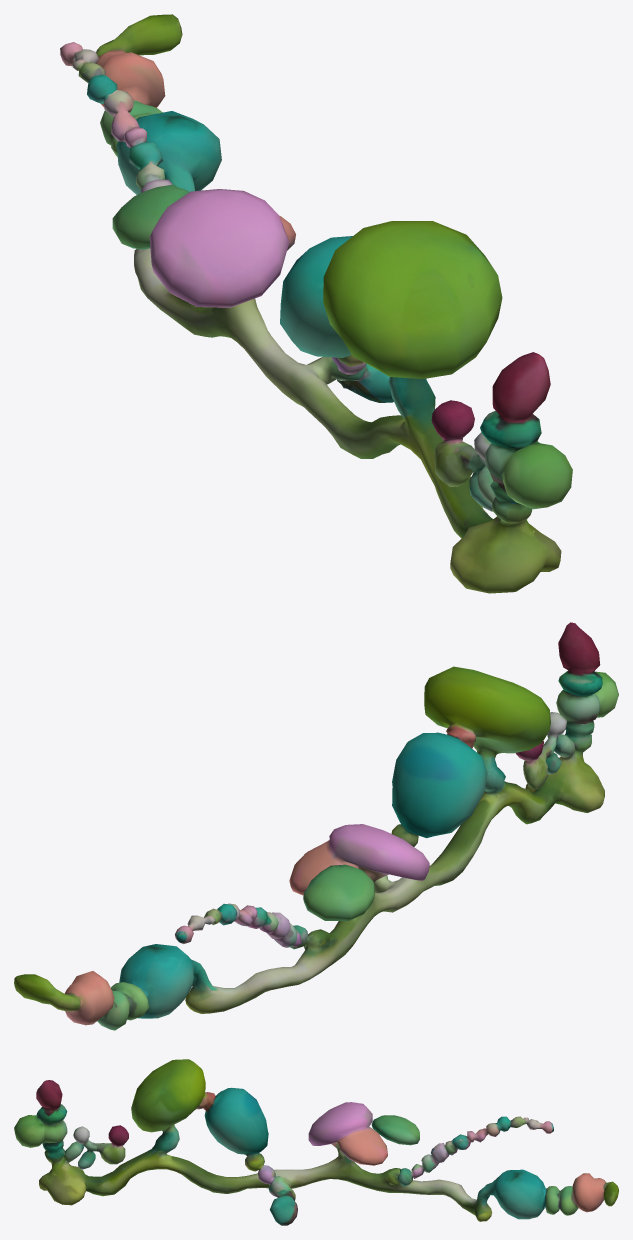
The picture shows the model from 3 angles, top to bottom: view 1: azimuth 30°, elevation 25°; view 2: azimuth 150°, elevation 25°; view 3: azimuth 270°, elevation 25°; orthographic projection. The views are drawn at different scales.
Visible parts, largest first — view 1: tripo_node_dcb60669-93c5-465a-90a0-ca156bcd8493; view 2: tripo_node_dcb60669-93c5-465a-90a0-ca156bcd8493; view 3: tripo_node_dcb60669-93c5-465a-90a0-ca156bcd8493.
Part boxes in pixels (<box>): tripo_node_dcb60669-93c5-465a-90a0-ca156bcd8493: <box>60,14,572,593</box>; tripo_node_dcb60669-93c5-465a-90a0-ca156bcd8493: <box>14,622,618,1030</box>; tripo_node_dcb60669-93c5-465a-90a0-ca156bcd8493: <box>14,1059,618,1225</box>.
Bounding box in the file's own units: 0.2838 × 0.2485 × 1.
Materials: 1 (1 with a texture image).
